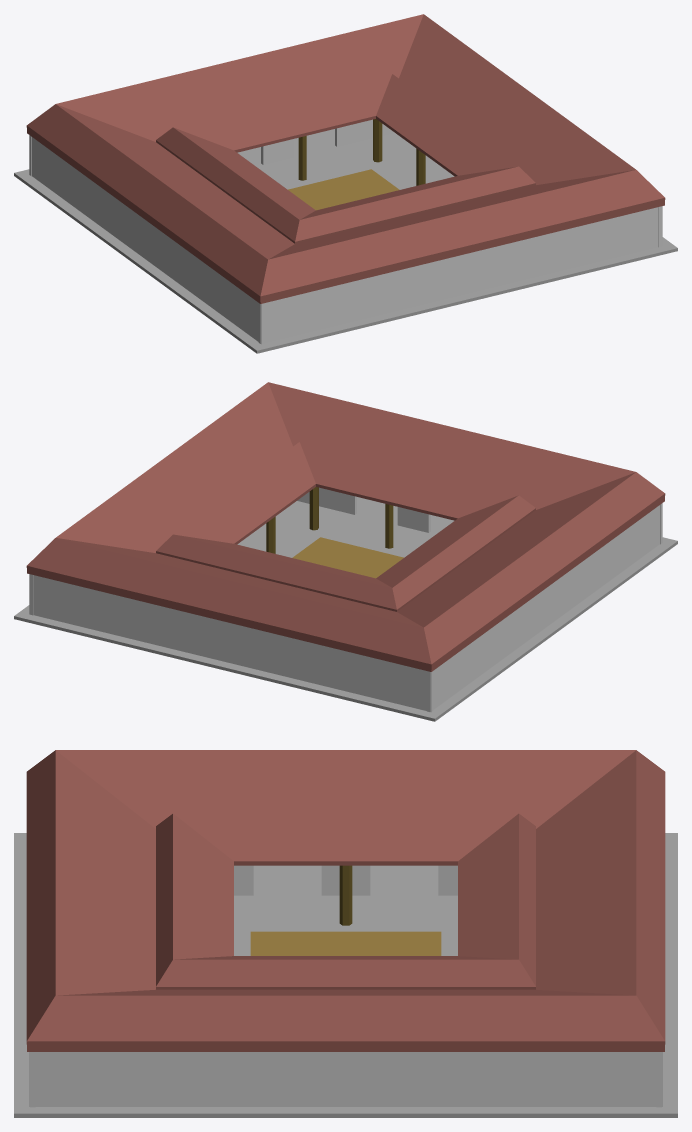
Rendered from lobby-courtyard-2.dae.
3 renders of one model, top to bottom at view 1: azimuth 30°, elevation 25°; view 2: azimuth 150°, elevation 25°; view 3: azimuth 270°, elevation 25°, orthographic. The views are drawn at different scales.
Visible parts, largest first — view 1: Torus_004, Torus_003, Cube_010, Cube_005, Cube_011, Cube_004, Cube_002; view 2: Torus_004, Torus_003, Cube_012, Cube_005, Cube_011, Cube_004, Cube_001; view 3: Torus_004, Torus_003, Cube_013, Cube_005, Cube_004, Cube_000, Cylinder_001.
Part boxes in pixels (<box>): Torus_004: <box>26,14,665,303</box>; Torus_003: <box>156,74,535,243</box>; Cube_010: <box>258,206,662,343</box>; Cube_005: <box>14,129,677,353</box>; Cube_011: <box>32,137,265,344</box>; Cube_004: <box>288,169,399,210</box>; Cube_002: <box>261,119,394,164</box>; Torus_004: <box>26,382,665,671</box>; Torus_003: <box>156,442,535,611</box>; Cube_012: <box>29,574,433,711</box>; Cube_005: <box>14,497,677,721</box>; Cube_011: <box>426,505,659,712</box>; Cube_004: <box>292,537,403,578</box>; Cube_001: <box>297,487,430,532</box>; Torus_004: <box>26,750,665,1051</box>; Torus_003: <box>156,813,535,989</box>; Cube_013: <box>29,1052,662,1106</box>; Cube_005: <box>14,833,677,1117</box>; Cube_004: <box>250,931,441,955</box>; Cube_000: <box>234,865,457,895</box>; Cylinder_001: <box>339,865,352,925</box>.
Bounding box in the file's own units: 6.18 × 6.18 × 1.07.
